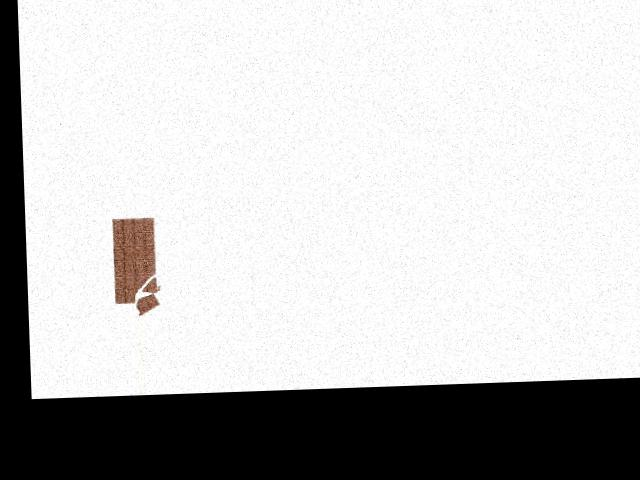chocolate: (105, 215, 170, 317)
